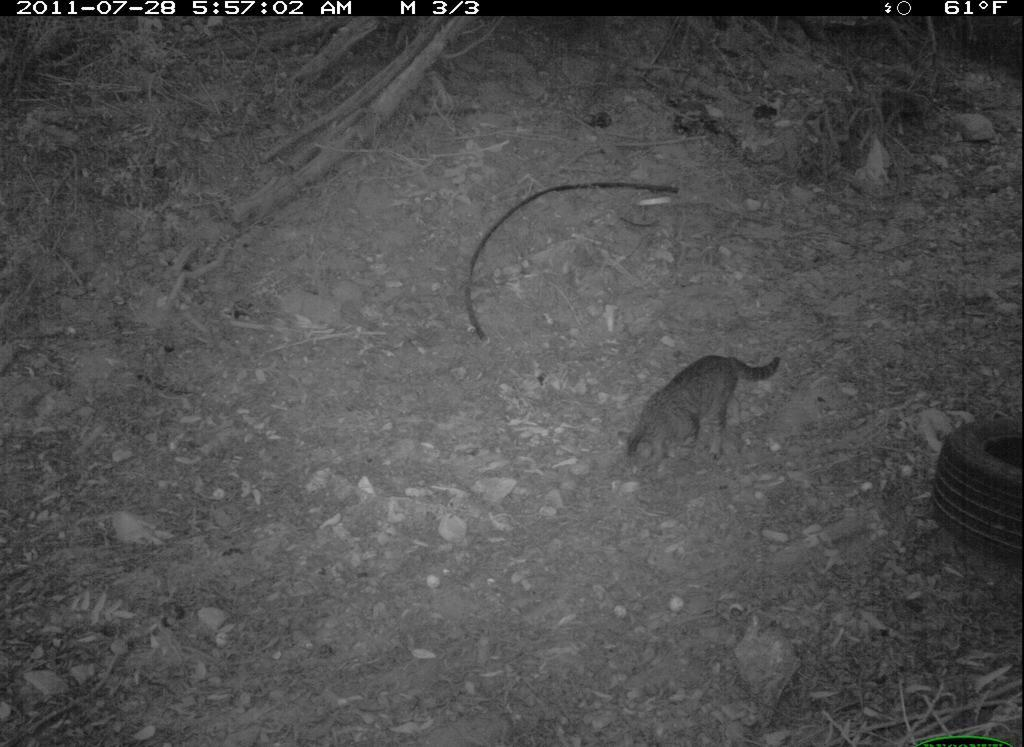cat: (620, 326, 786, 497)
